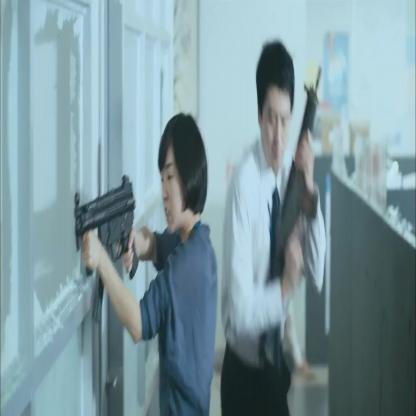Gun: (244, 47, 346, 387), (70, 162, 146, 332)
